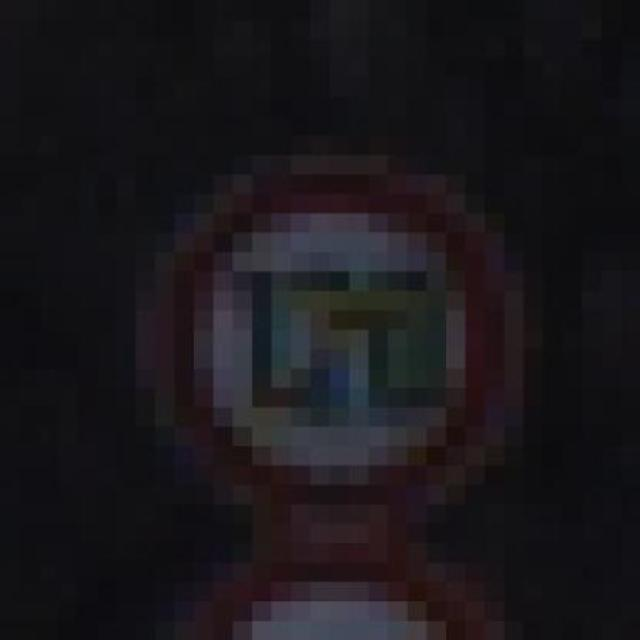forb_speed_over_120: (161, 172, 504, 521)
